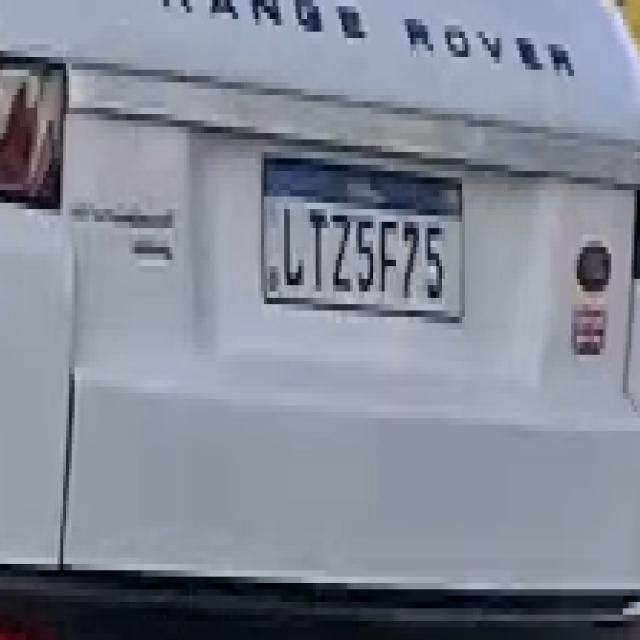Placa_mercosul_carro: (260, 155, 466, 321)
